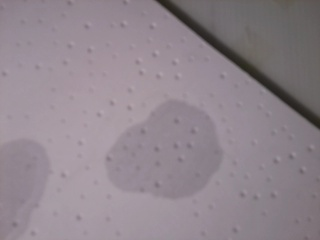Water_detected: (113, 106, 204, 189), (0, 156, 41, 215)
